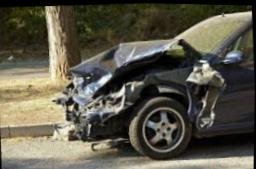Bonnet: (64, 37, 204, 109)
Bumper: (54, 83, 131, 139)
Fender: (159, 60, 228, 127)
